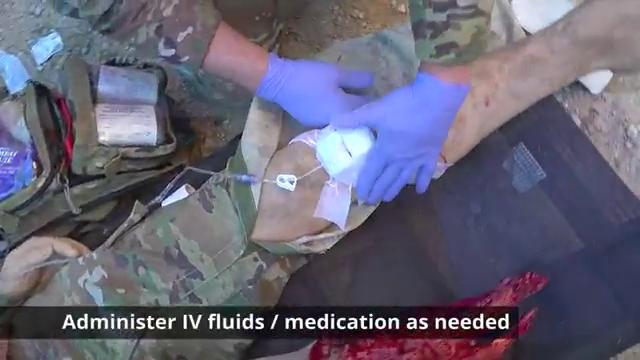gauze: (317, 126, 379, 175)
